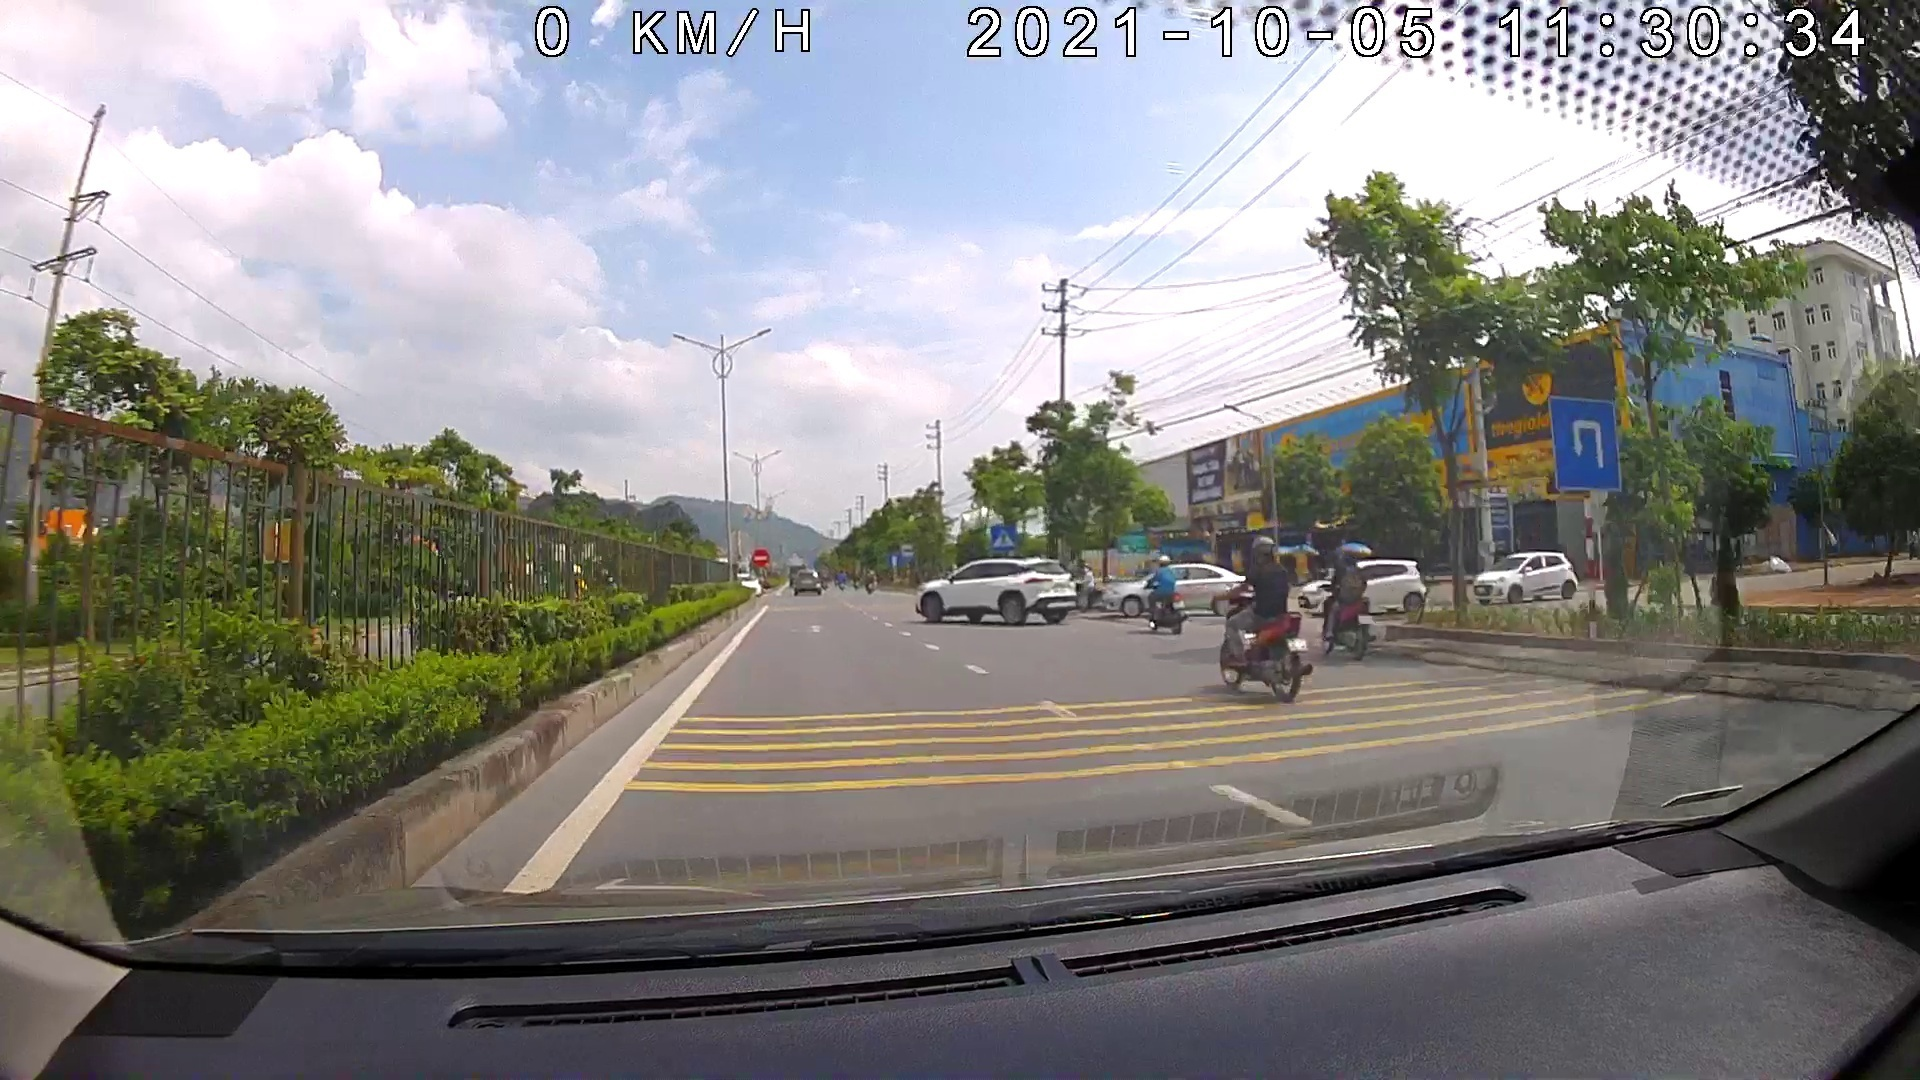Bien khac: (1545, 392, 1621, 491)
Cam di nguoc chieu: (746, 545, 774, 574)
Nguoi di bo: (992, 520, 1017, 545)
